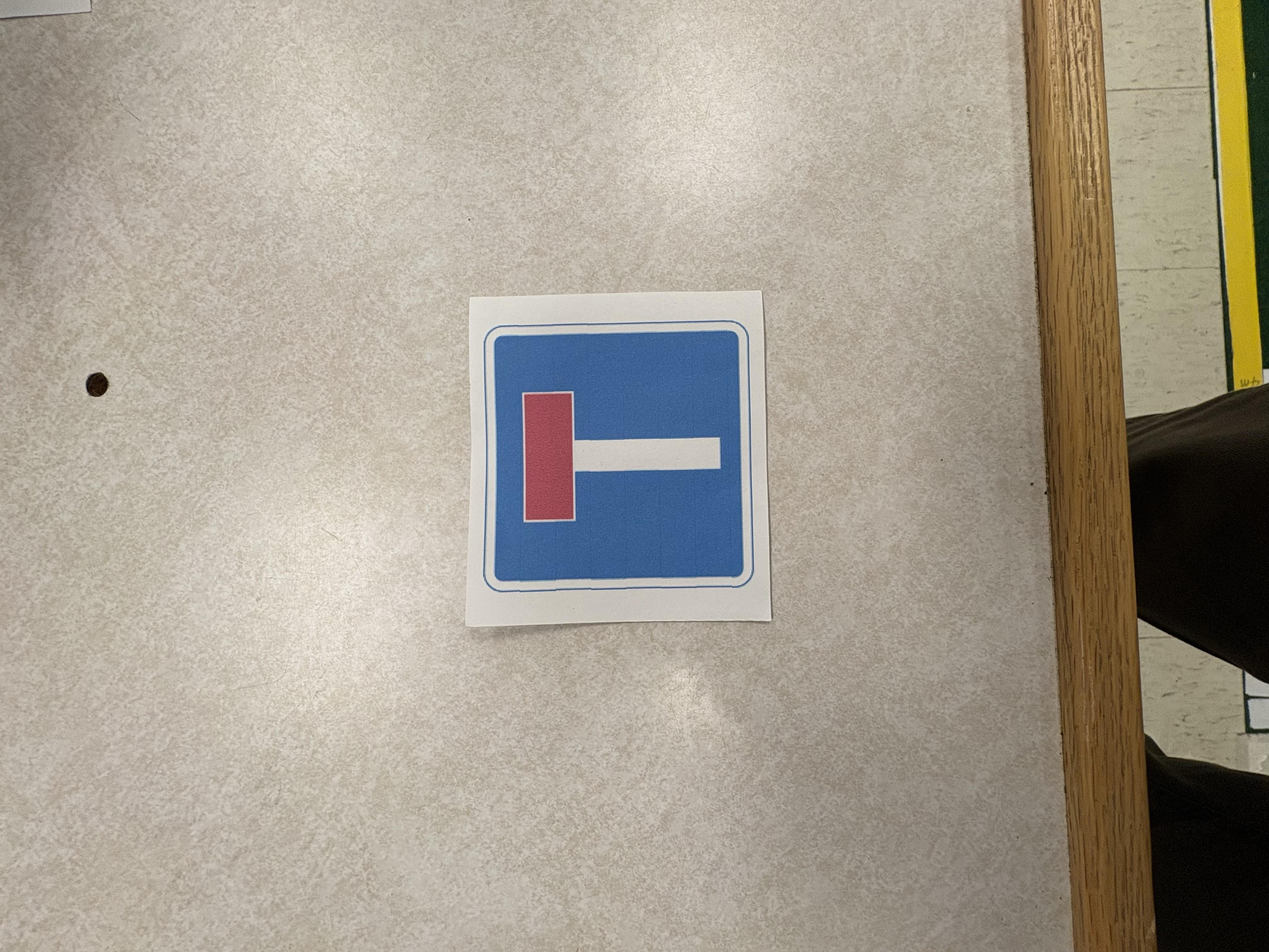Dead End: (464, 298, 773, 623)
